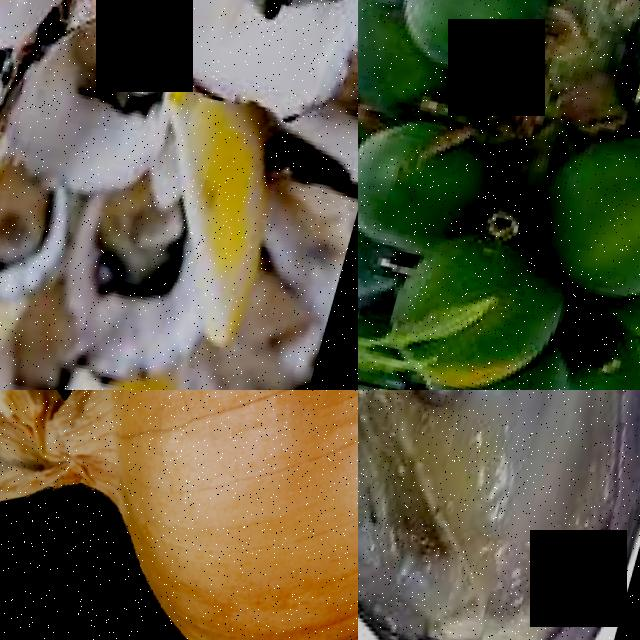onion: (0, 390, 358, 640)
oysters: (7, 0, 205, 205), (47, 176, 222, 383), (64, 0, 358, 111), (0, 154, 96, 336), (358, 390, 426, 615)
pawpaw: (401, 214, 589, 390), (358, 107, 512, 257), (532, 124, 640, 306), (389, 0, 564, 82)
